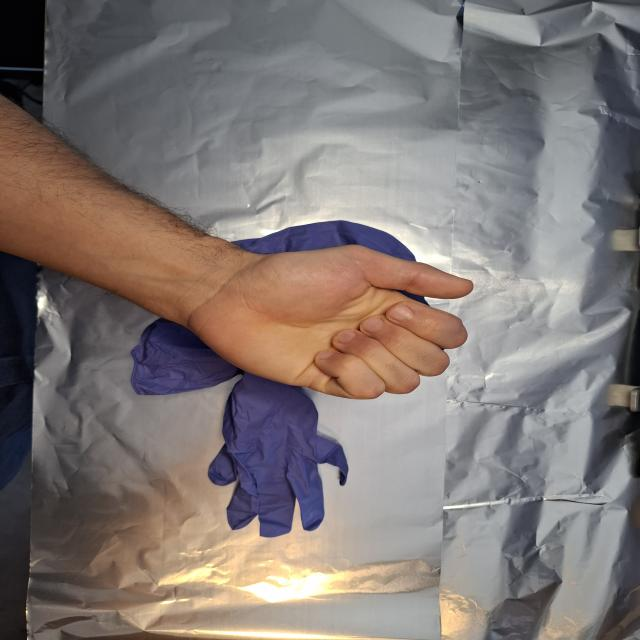glove_off: (174, 242, 477, 401)
